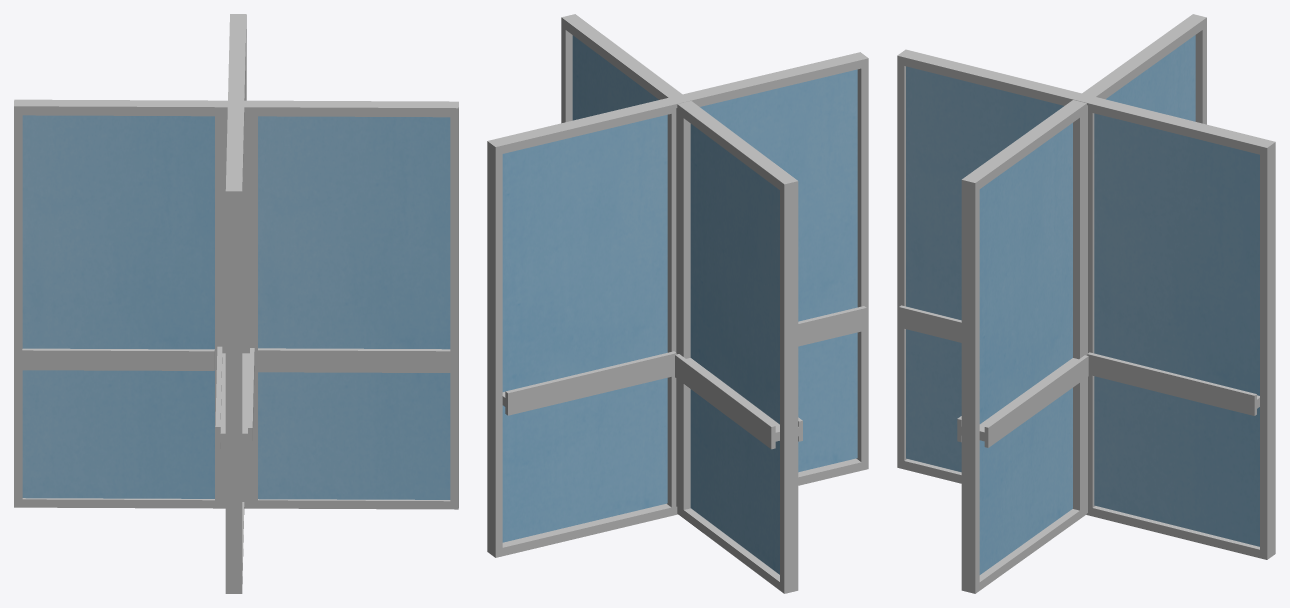
The model's file is DoorPart02.fbx.
The picture shows the model from 3 angles, left to right: view 1: azimuth 30°, elevation 25°; view 2: azimuth 150°, elevation 25°; view 3: azimuth 270°, elevation 25°; orthographic projection. The views are drawn at different scales.
Parts seen in each view (by area): view 1: Mesh (14); view 2: Mesh (14); view 3: Mesh (14).
Part boxes in pixels (<box>): Mesh (14): <box>14,14,458,593</box>; Mesh (14): <box>487,14,868,593</box>; Mesh (14): <box>897,14,1275,593</box>.
Size of the model in its own units: 233 by 265 by 221.
